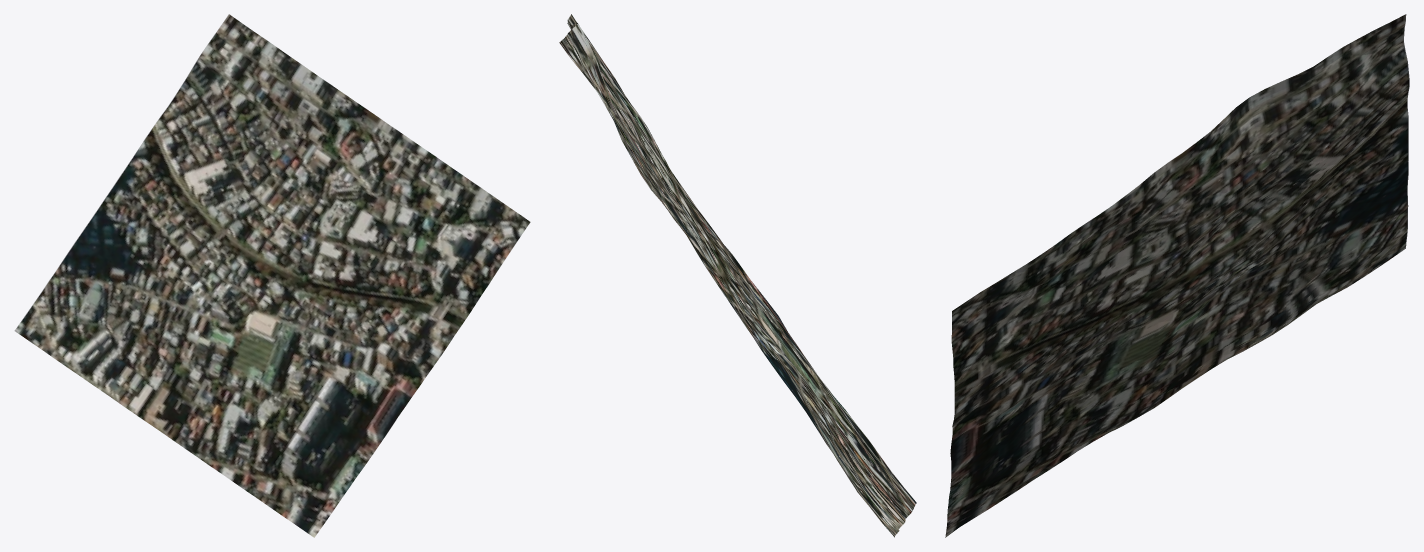
3 views of the same model, side by side, from view 1: azimuth 30°, elevation 25°; view 2: azimuth 150°, elevation 25°; view 3: azimuth 270°, elevation 25° (orthographic). The views are drawn at different scales.
Size of the model in its own units: 542 by 561 by 410.
1 material, 1 textured.
